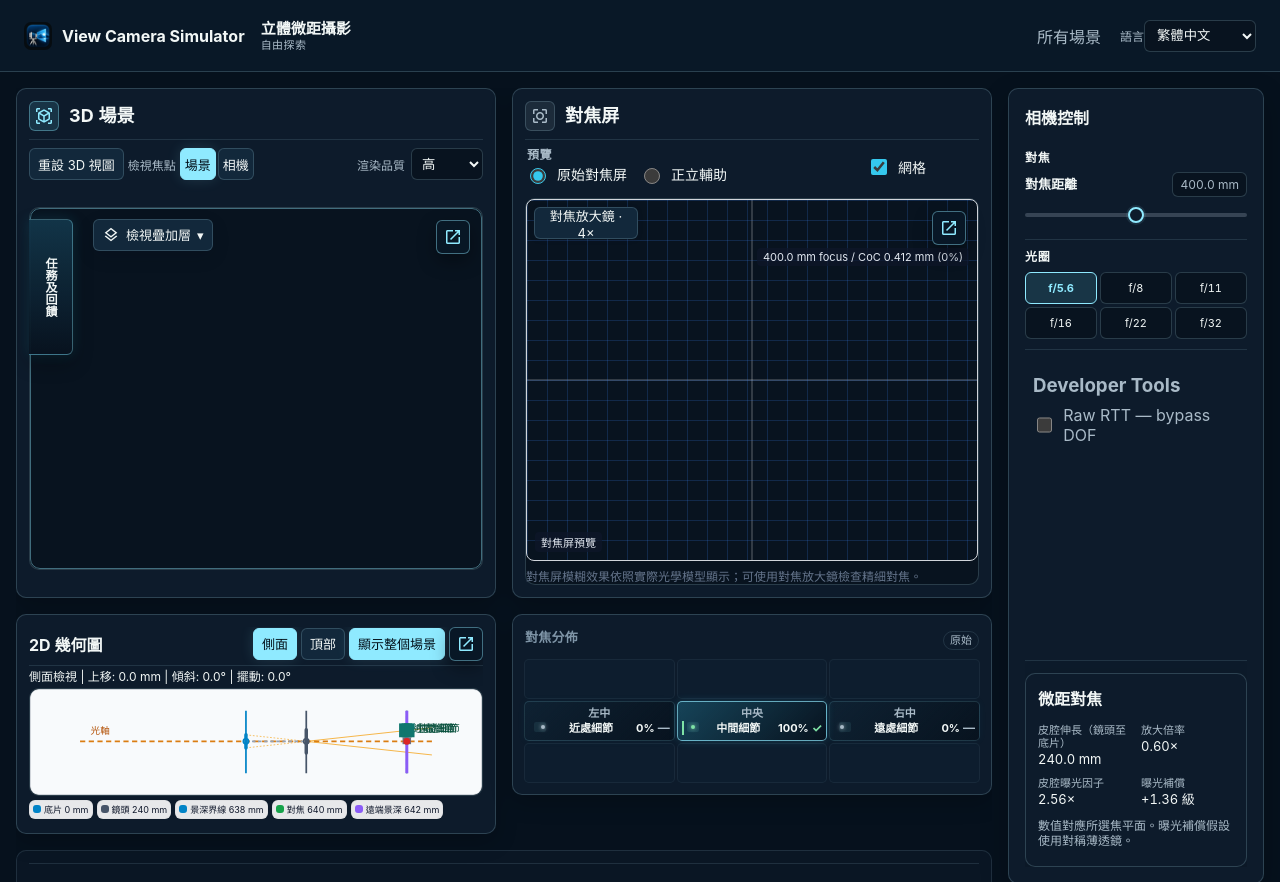
Test case: Macro Depth of Field › localizes the Scene 2 teaching content
Click the button with aria-label "開啟任務及回饋" at (51, 287), box x1=29 y1=219 x2=73 y2=355
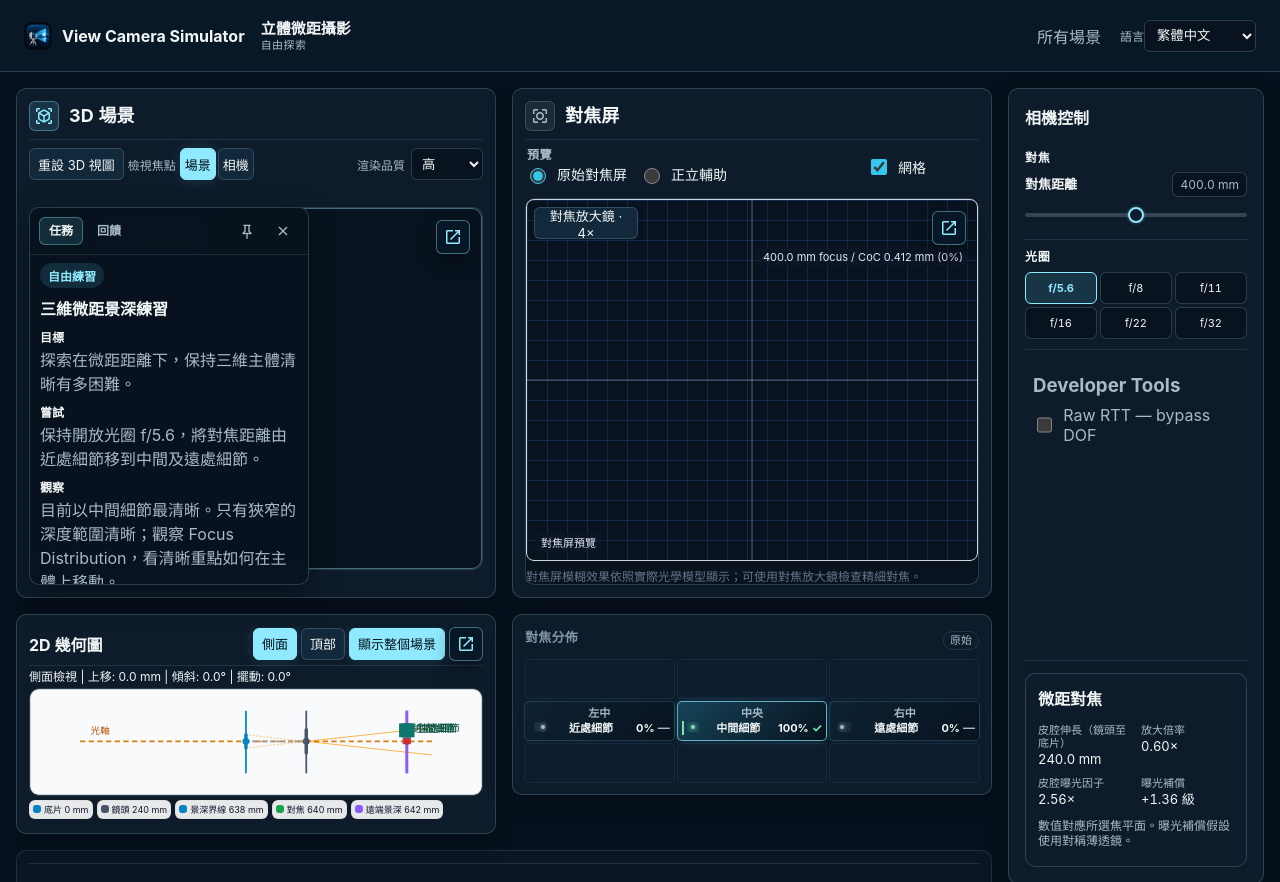
Now the element with test id "learning-overlay-task-view" shows "目標", box x1=40 y1=330 x2=64 y2=345
Now the element with test id "learning-overlay-task-view" shows "探索在微距距離下", box x1=40 y1=350 x2=296 y2=394
Click the radio button labelled "f/11" at (1211, 288), box x1=1175 y1=272 x2=1247 y2=304
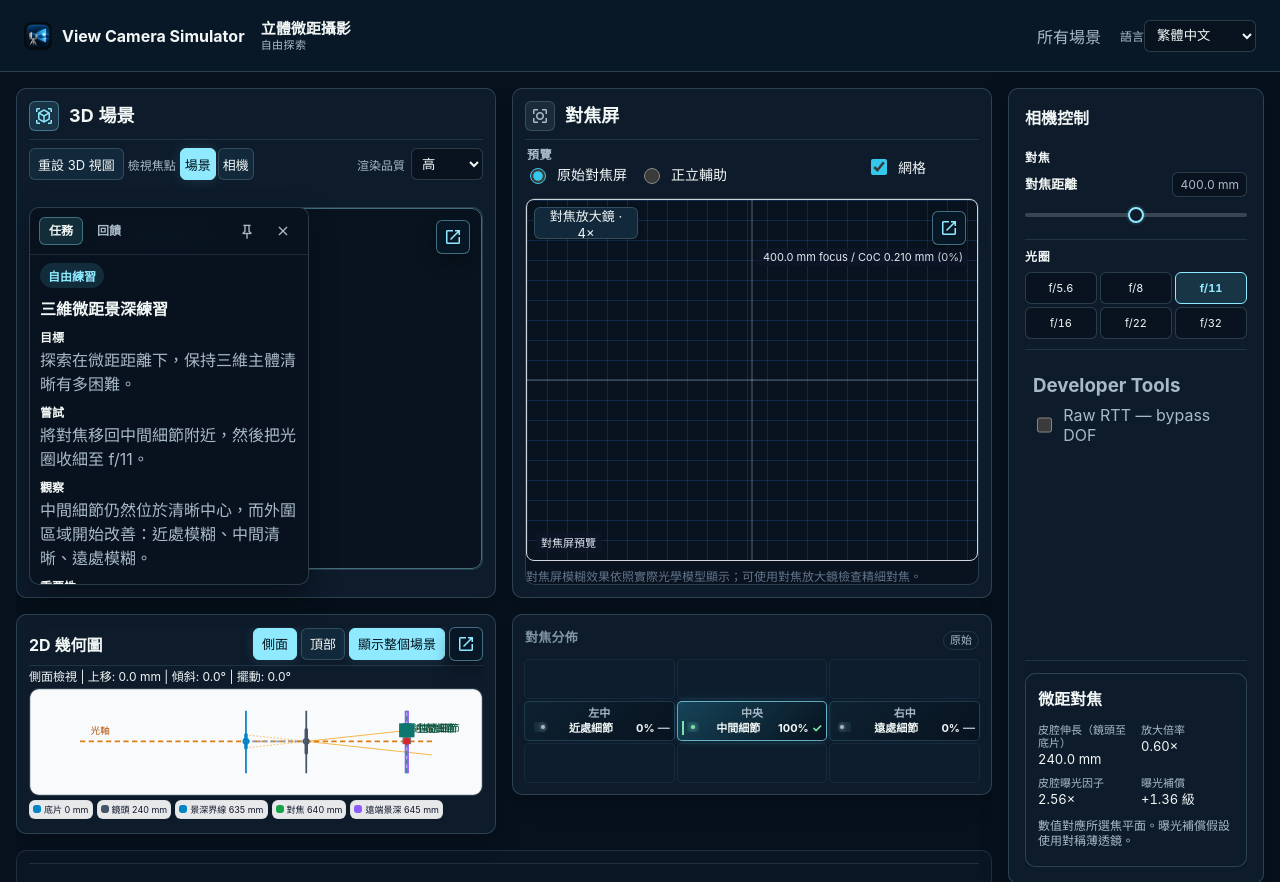
Expected: the element with test id "learning-overlay-task-view" does not show "減少可接受的模糊", x1=30 y1=255 x2=308 y2=584
Click the radio button labelled "f/32" at (1211, 323), box x1=1175 y1=307 x2=1247 y2=339
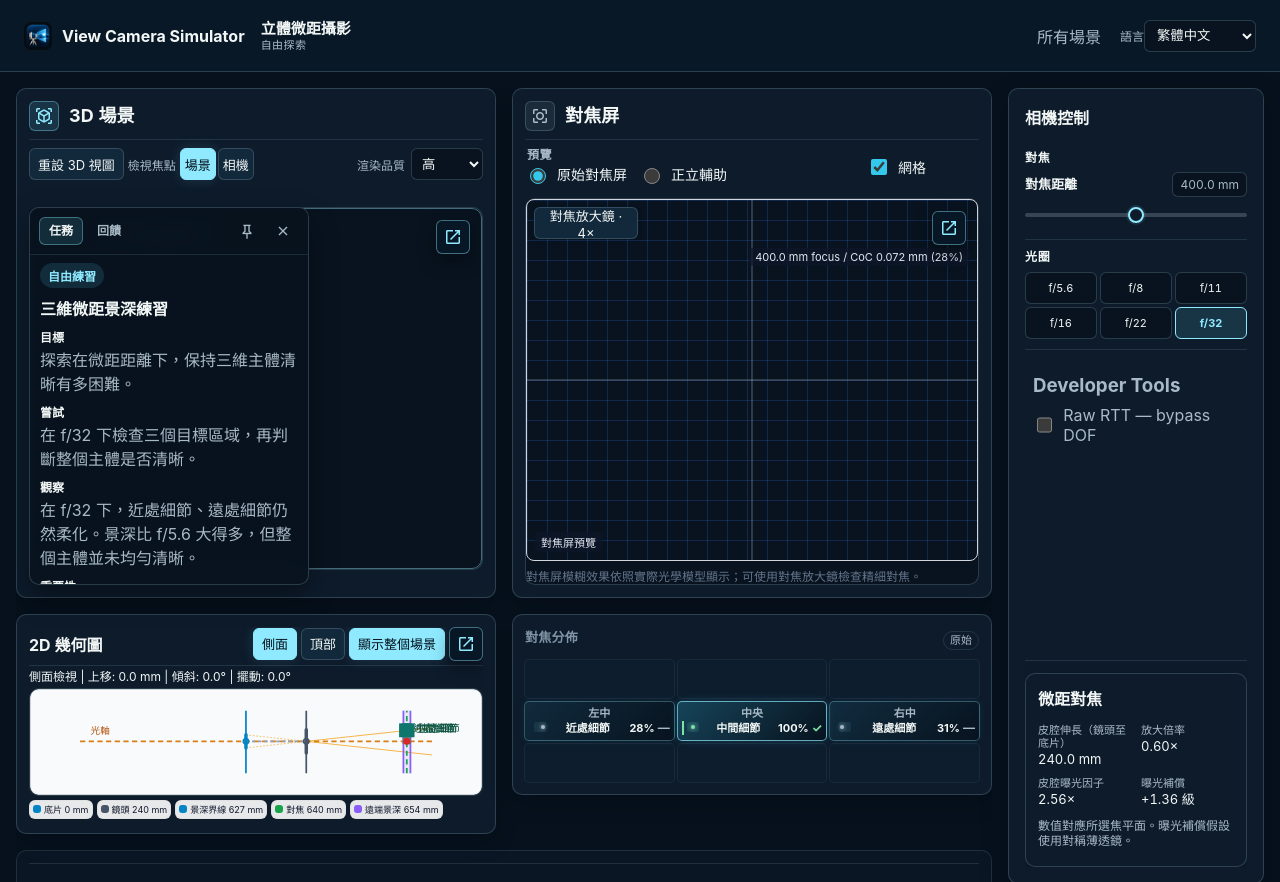
Now the element with test id "learning-overlay-task-view" shows "仍然柔化", box x1=40 y1=500 x2=291 y2=568
